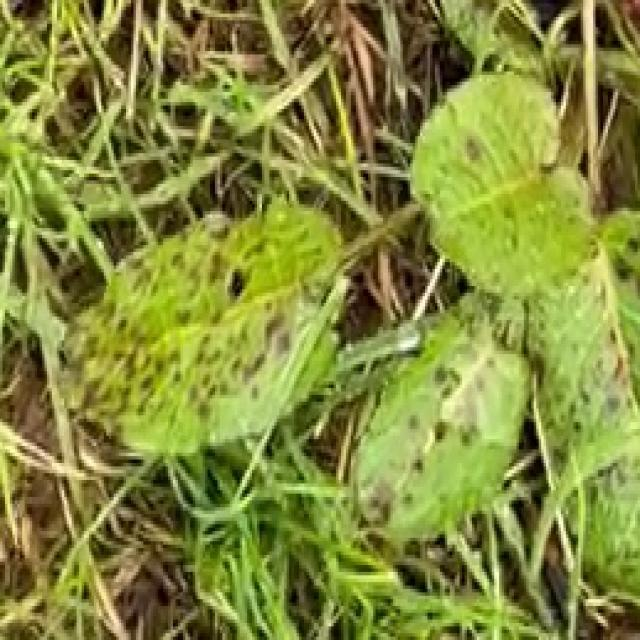organic waste: (64, 67, 640, 590)
